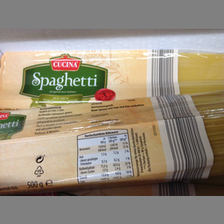pasta: (1, 93, 224, 193), (1, 51, 223, 107)
